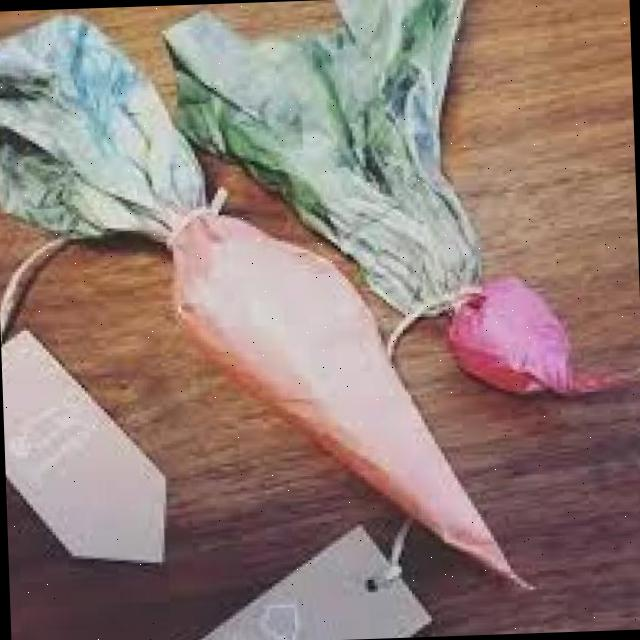trash: (167, 195, 538, 601), (167, 0, 488, 315), (0, 4, 215, 247), (0, 319, 174, 567), (129, 515, 434, 640), (444, 265, 640, 397)
